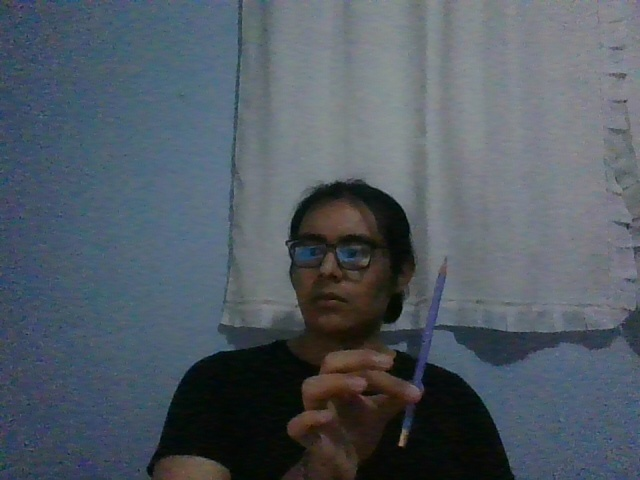lapiz: (396, 255, 447, 448)
